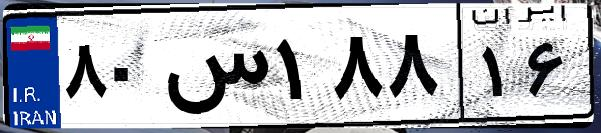0: (110, 28, 158, 98)
1: (270, 28, 330, 110), (475, 38, 525, 113)
6: (525, 38, 570, 115)
8: (385, 28, 445, 110), (330, 28, 385, 110), (57, 26, 110, 100)
س: (158, 20, 270, 120)
